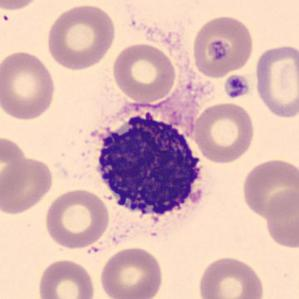Basophil: (88, 104, 217, 238)
Platelets: (222, 73, 251, 100)
RBC: (44, 1, 118, 72), (189, 12, 255, 80), (42, 187, 111, 250), (110, 41, 178, 104), (0, 49, 58, 122), (191, 100, 256, 164), (252, 41, 299, 121), (97, 244, 165, 299), (239, 157, 297, 220), (0, 155, 55, 215), (195, 253, 266, 299), (36, 257, 97, 299), (262, 186, 298, 250), (0, 134, 29, 201), (0, 0, 44, 12)
